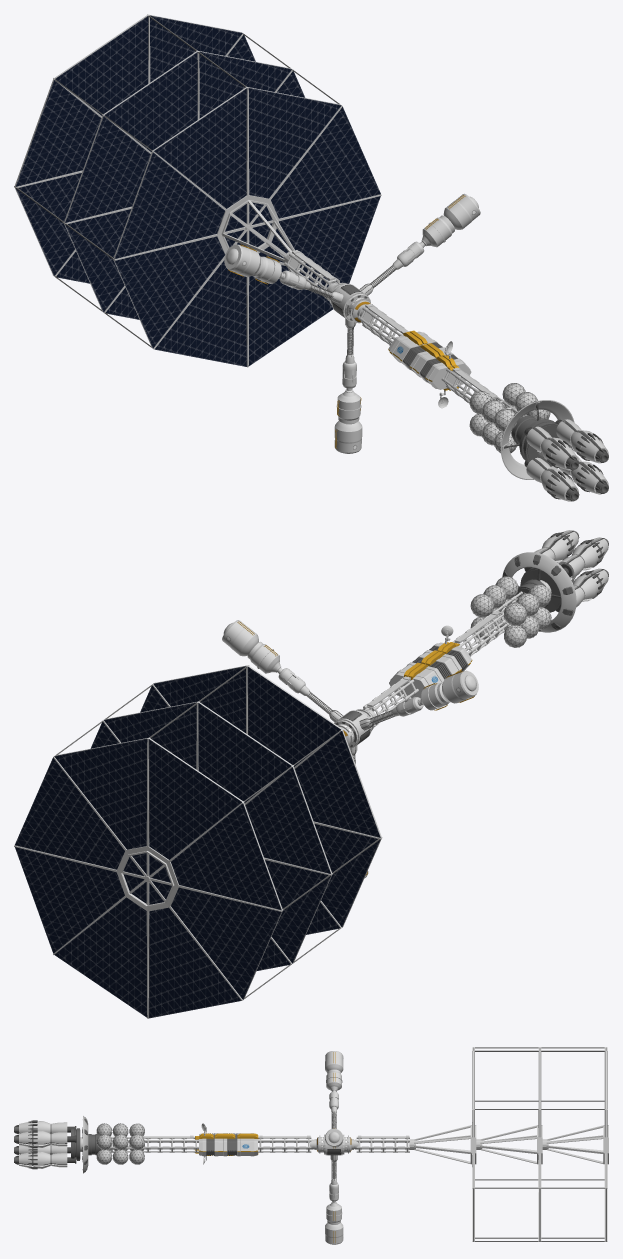
The model's file is satellite.glb.
3 views of the same model, one above another, from view 1: azimuth 30°, elevation 25°; view 2: azimuth 150°, elevation 25°; view 3: azimuth 270°, elevation 25° (orthographic). The views are drawn at different scales.
Parts seen in each view (by area): view 1: Object_8, Object_6, Object_5, Object_3, Object_4, Object_2, Object_7, Object_9; view 2: Object_8, Object_6, Object_3, Object_5, Object_9, Object_4, Object_2, Object_7; view 3: Object_8, Object_5, Object_6, Object_3, Object_4, Object_2, Object_7, Object_9.
Boxes of the visible parts, left/top/right/bottom form: Object_8: left=14, top=14, right=605, bottom=500; Object_6: left=224, top=193, right=574, bottom=479; Object_5: left=279, top=222, right=608, bottom=484; Object_3: left=269, top=195, right=608, bottom=501; Object_4: left=228, top=195, right=608, bottom=500; Object_2: left=289, top=253, right=608, bottom=501; Object_7: left=226, top=196, right=554, bottom=460; Object_9: left=438, top=341, right=573, bottom=479; Object_8: left=14, top=530, right=601, bottom=1018; Object_6: left=222, top=566, right=561, bottom=745; Object_3: left=264, top=533, right=601, bottom=753; Object_5: left=257, top=530, right=608, bottom=878; Object_9: left=441, top=552, right=576, bottom=636; Object_4: left=237, top=535, right=608, bottom=875; Object_2: left=309, top=530, right=608, bottom=763; Object_7: left=223, top=622, right=476, bottom=754; Object_8: left=19, top=1047, right=608, bottom=1241; Object_5: left=14, top=1091, right=343, bottom=1244; Object_6: left=71, top=1051, right=358, bottom=1206; Object_3: left=82, top=1097, right=409, bottom=1194; Object_4: left=14, top=1052, right=335, bottom=1242; Object_2: left=15, top=1111, right=409, bottom=1179; Object_7: left=74, top=1064, right=351, bottom=1230; Object_9: left=83, top=1116, right=205, bottom=1173.
Size of the model in its own units: 27.64 by 28.51 by 79.52.
1 material, 1 textured.
